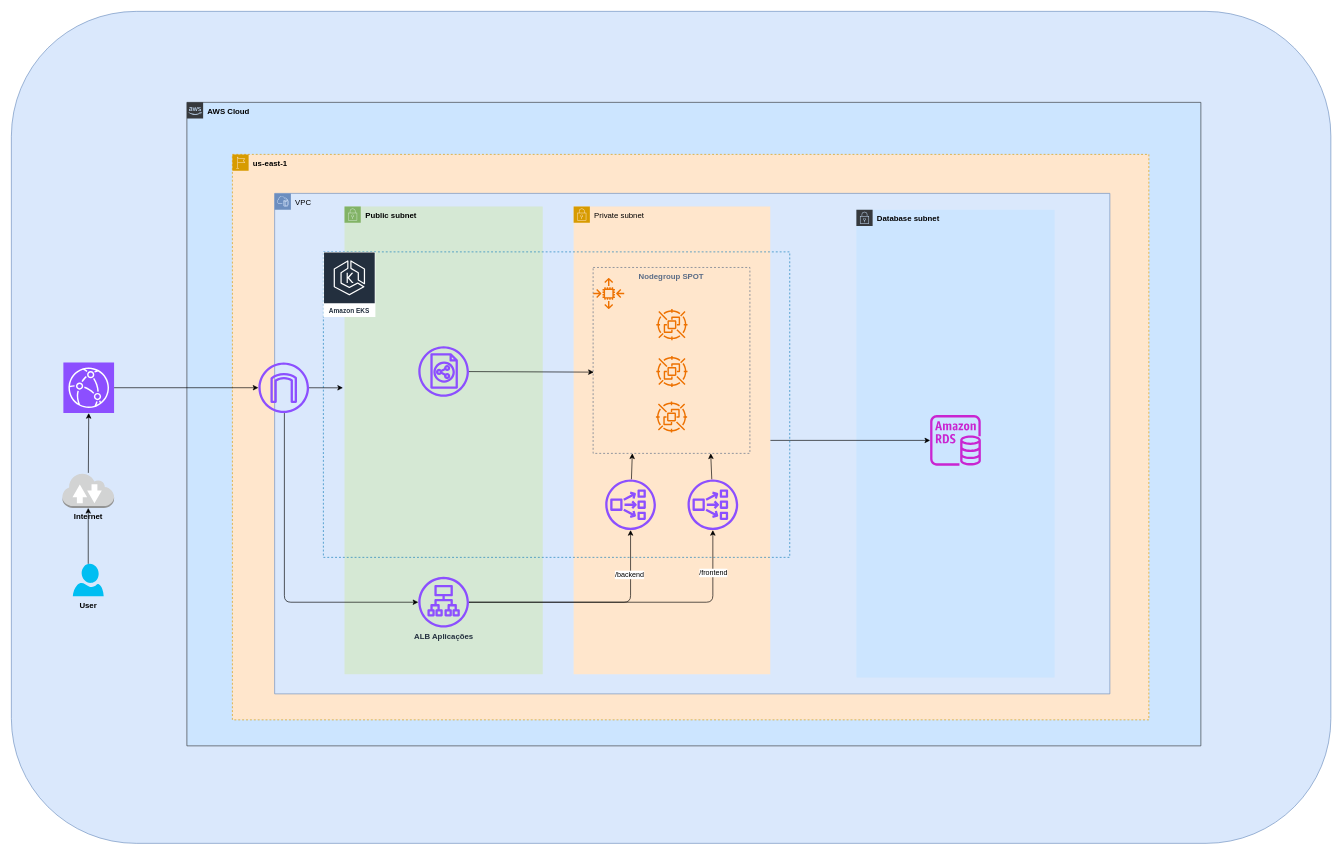
The diagram is 1342 pixels wide and 855 high, and some of its shapes have lost their labels. Here are the shapes that lost their labels. From the top down, the centre of each, then its label:
At [88,387]: "CloudFront".
At [283,387]: "Internet Gateway".
At [443,371]: "Load Balanc er Ingress Controller".
At [955,440]: "MySQL 8.0".
At [630,504]: "calculadora-api-nlb (service)".
At [712,504]: "magic-calculator-nlb (service)".
